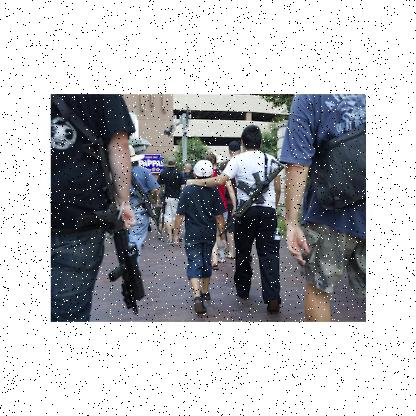gun: (76, 137, 148, 315), (214, 160, 284, 238), (124, 172, 162, 235)
